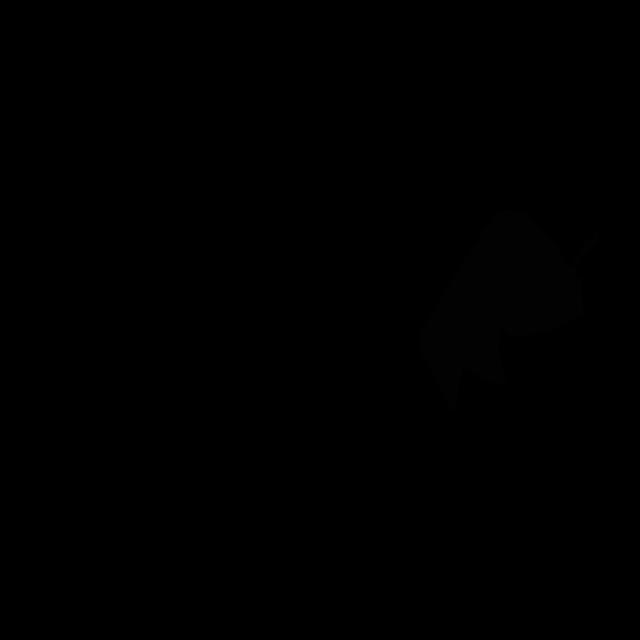cardboard: (419, 209, 600, 415)
